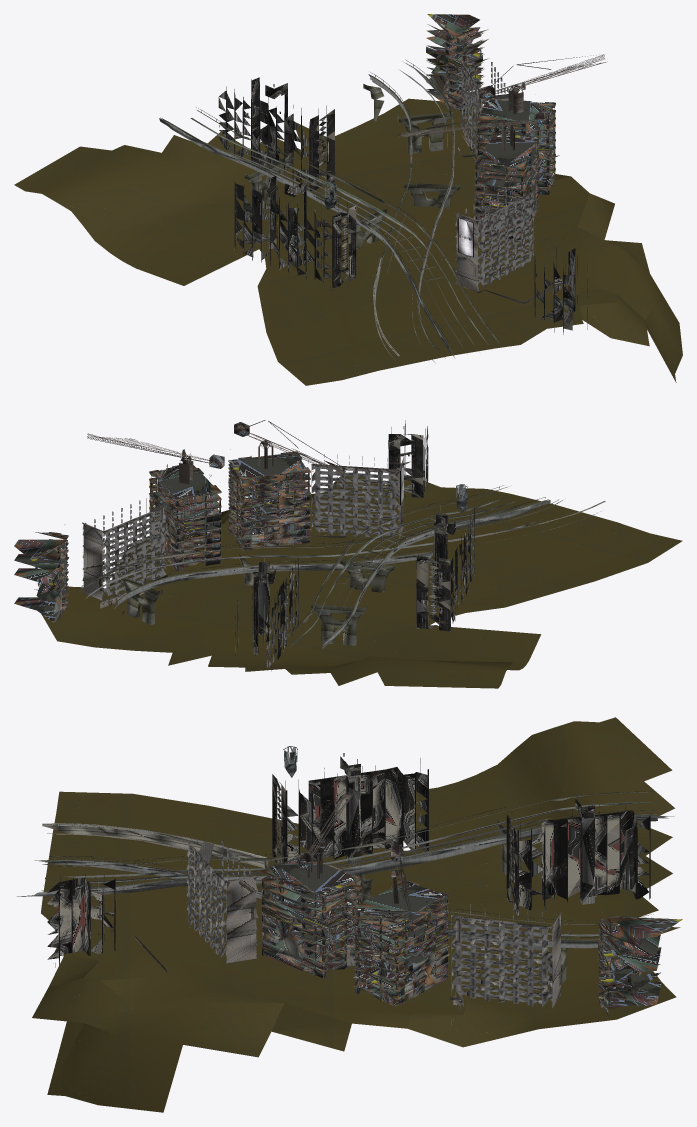
File: world_camden_9_-3.gltf
3 views of the same model, one above another, from view 1: azimuth 30°, elevation 25°; view 2: azimuth 150°, elevation 25°; view 3: azimuth 270°, elevation 25° (orthographic). The views are drawn at different scales.
Size of the model in its own units: 289 by 115 by 286.
Materials: 17 (17 with a texture image).
